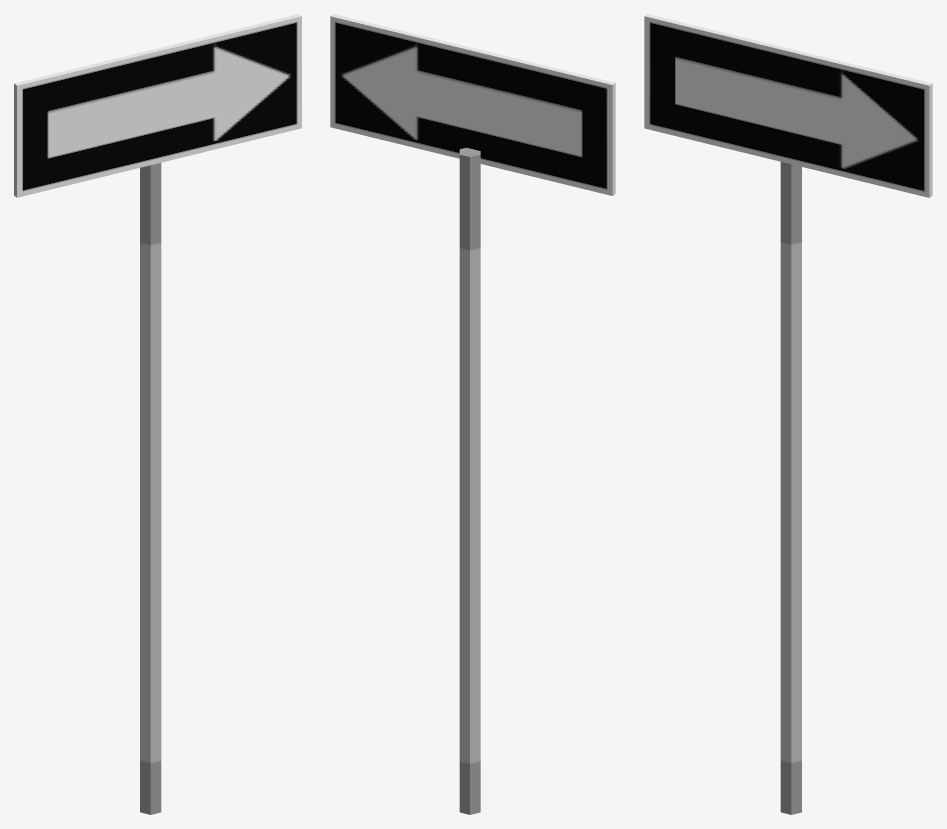
Rendered from city_sign_02.fbx.
3 views of the same model, side by side, from view 1: azimuth 30°, elevation 25°; view 2: azimuth 150°, elevation 25°; view 3: azimuth 330°, elevation 25° (orthographic).
Parts seen in each view (by area): view 1: city:polySurface316; view 2: city:polySurface316; view 3: city:polySurface316.
Boxes of the visible parts, left/top/right/bottom form: city:polySurface316: left=14, top=14, right=301, bottom=814; city:polySurface316: left=330, top=14, right=615, bottom=814; city:polySurface316: left=644, top=14, right=932, bottom=814.
Size of the model in its own units: 0.9675 by 2.48 by 0.0703.
